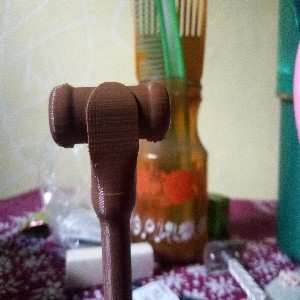palu: (48, 79, 171, 300)
